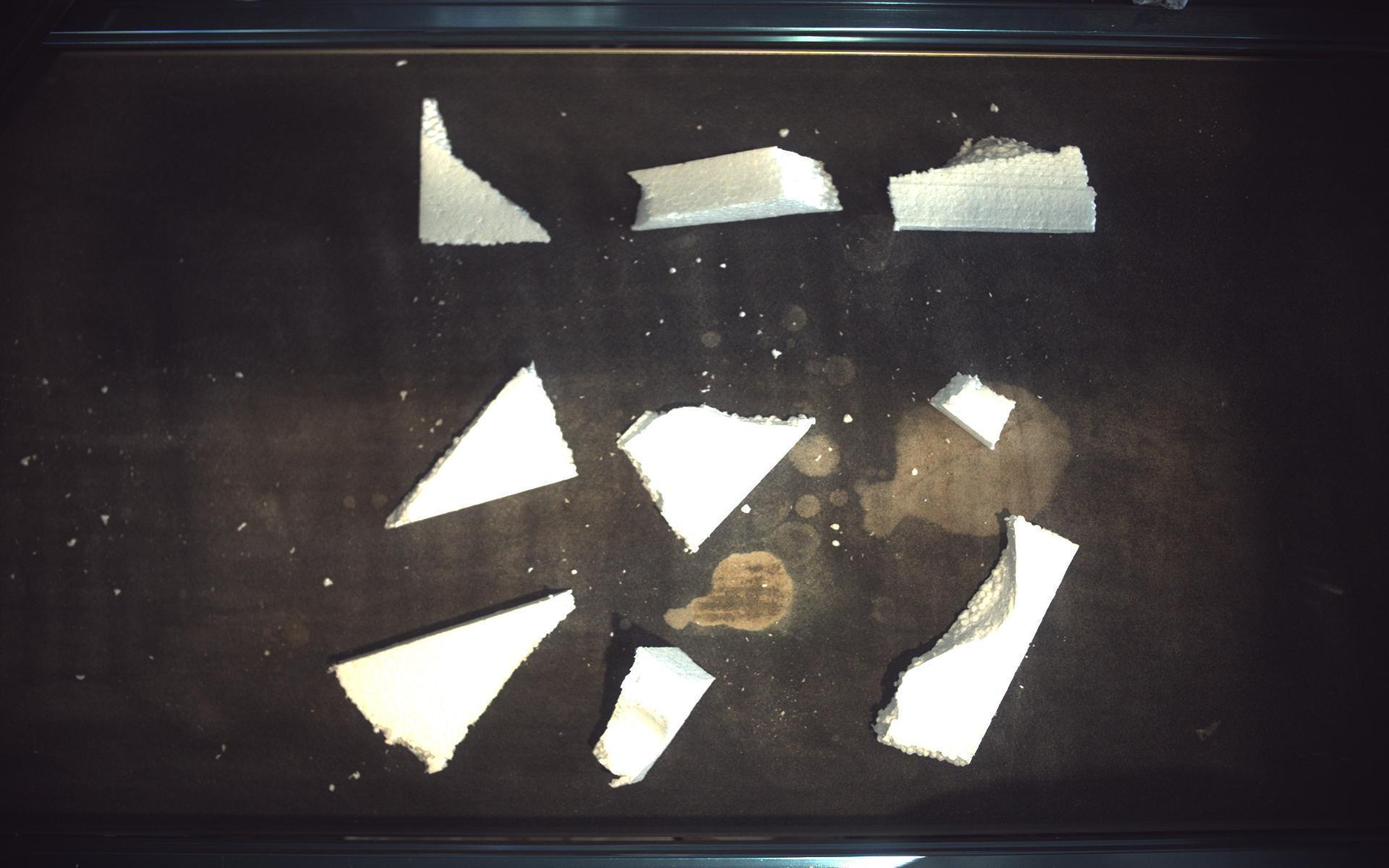foam: (877, 516, 1081, 767), (330, 591, 576, 775), (386, 362, 578, 529), (619, 404, 817, 553), (891, 135, 1098, 232), (420, 97, 551, 244), (631, 145, 844, 230), (594, 649, 715, 789), (933, 373, 1018, 450)
